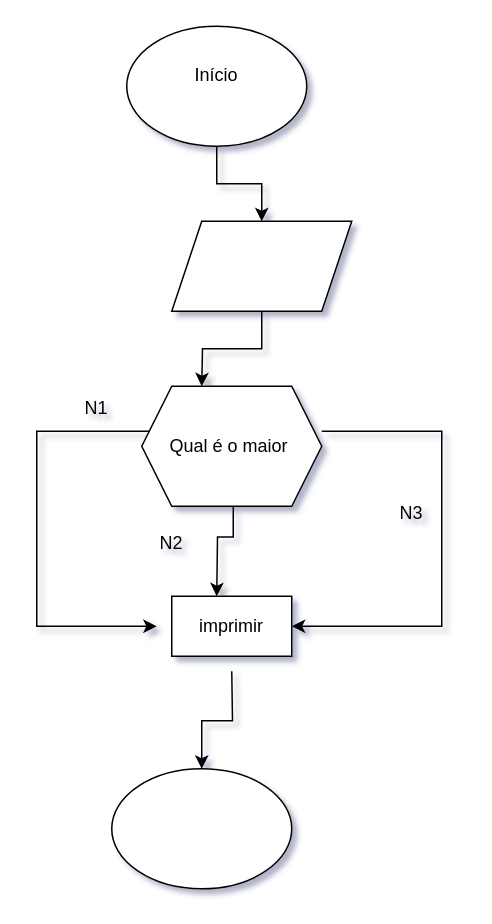
The diagram is 492 pixels wide and 924 high, and some of its shapes have lost their labels. The centre of each missing label's shape, as x and y in pixels:
Fim: (201,828)
Ler N1, N2, N3: (261,265)
